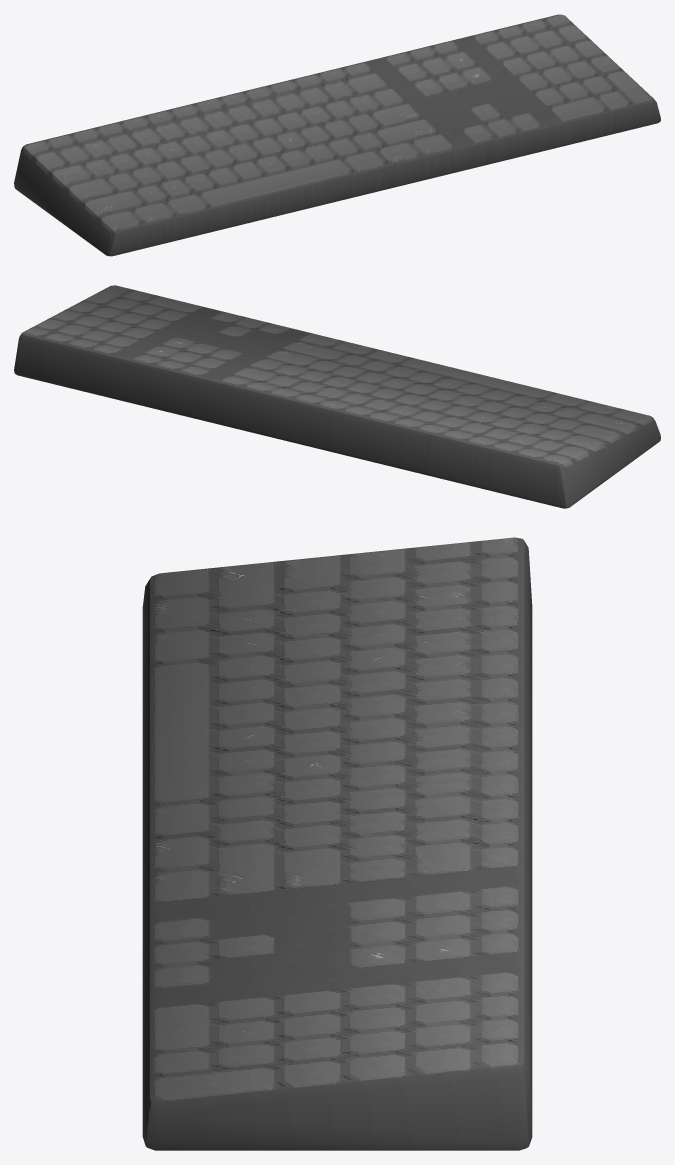
Rendered from klawiatur.fbx.
3 renders of one model, top to bottom at view 1: azimuth 30°, elevation 25°; view 2: azimuth 150°, elevation 25°; view 3: azimuth 270°, elevation 25°, orthographic. The views are drawn at different scales.
Visible parts, largest first — view 1: keyboard.001; view 2: keyboard.001; view 3: keyboard.001.
Part boxes in pixels (<box>): keyboard.001: <box>14,14,660,256</box>; keyboard.001: <box>14,285,660,508</box>; keyboard.001: <box>142,537,532,1150</box>.
Size of the model in its own units: 96.86 by 7.28 by 29.41.
